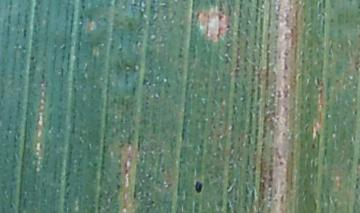tarspot: (193, 180, 204, 194), (21, 25, 28, 40), (79, 1, 85, 12), (28, 54, 36, 61), (225, 22, 231, 30)
